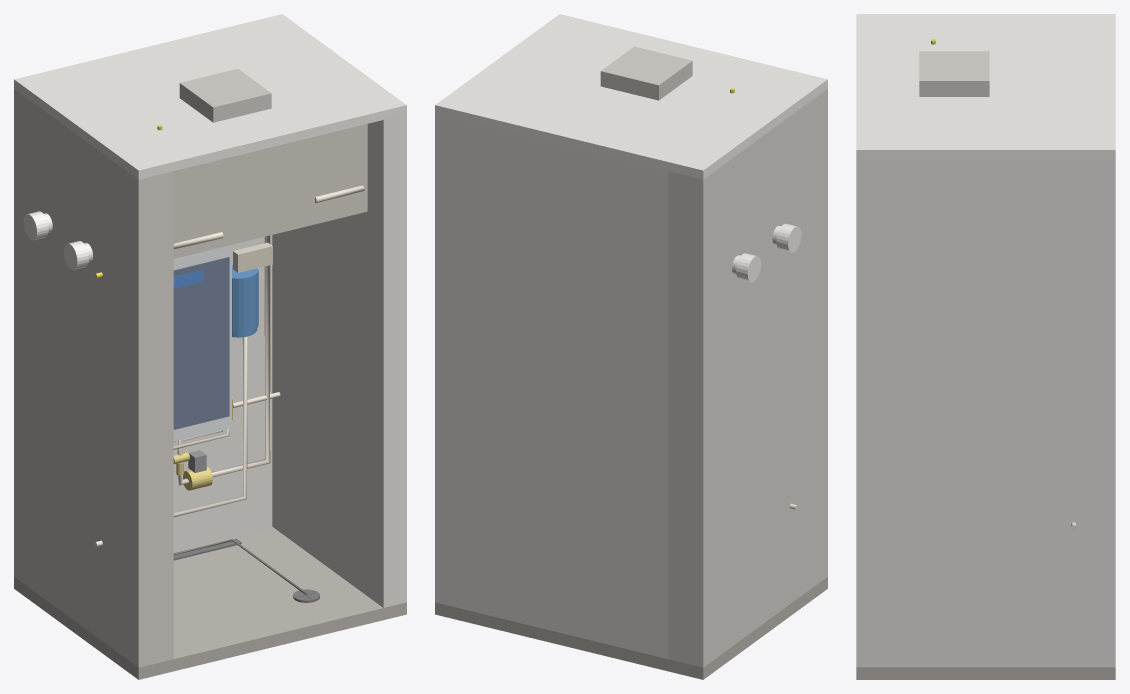
The model's file is boiler_closet.glb.
3 renders of one model, left to right at view 1: azimuth 30°, elevation 25°; view 2: azimuth 150°, elevation 25°; view 3: azimuth 270°, elevation 25°, orthographic. The views are drawn at different scales.
Parts seen in each view (by area): view 1: WallLeft, WallRight, Ceiling, Floor, AirHandler, WallBack, RinnaiFace, SupplyDuct, HS_Run, Rinnai, ExpTank, Exp_Run (+3 smaller); view 2: WallBack, WallLeft, Ceiling, WallRight, Floor, SupplyDuct, VentInt_Cap, VentExh_Cap; view 3: WallRight, Ceiling, Floor, SupplyDuct.
Part boxes in pixels (bbox=[...]): WallLeft: bbox=[14, 89, 173, 667]; WallRight: bbox=[272, 114, 406, 607]; Ceiling: bbox=[14, 14, 406, 179]; Floor: bbox=[14, 526, 406, 679]; AirHandler: bbox=[173, 124, 367, 258]; WallBack: bbox=[173, 235, 272, 550]; RinnaiFace: bbox=[173, 257, 229, 429]; SupplyDuct: bbox=[179, 68, 271, 122]; HS_Run: bbox=[177, 185, 364, 485]; Rinnai: bbox=[173, 245, 231, 441]; ExpTank: bbox=[232, 265, 258, 333]; Exp_Run: bbox=[173, 336, 247, 517]; WallBack: bbox=[458, 120, 668, 658]; WallLeft: bbox=[668, 89, 827, 667]; Ceiling: bbox=[435, 14, 827, 179]; WallRight: bbox=[435, 114, 458, 607]; Floor: bbox=[435, 577, 827, 679]; SupplyDuct: bbox=[600, 46, 692, 100]; VentInt_Cap: bbox=[776, 223, 801, 252]; VentExh_Cap: bbox=[736, 253, 761, 282]; WallRight: bbox=[856, 159, 1115, 667]; Ceiling: bbox=[856, 14, 1115, 159]; Floor: bbox=[856, 667, 1115, 679]; SupplyDuct: bbox=[919, 51, 989, 96].
Bounding box in the file's own units: 1.27 × 2.18 × 0.9398.
